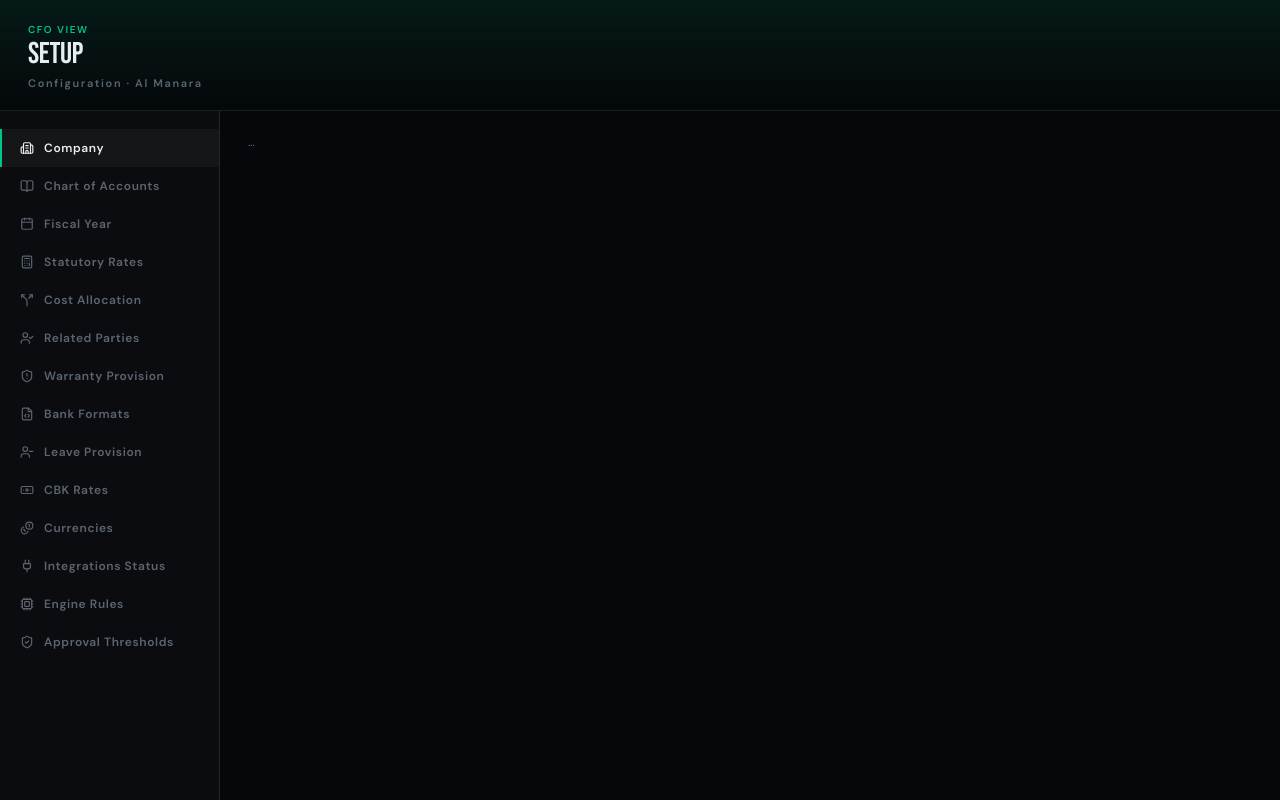
HASEEB-448 — SetupScreen onboarding polish › CoA templates: preview button opens modal with preview rows
Click the button "Chart of Accounts" at (110, 186), box [0,166,219,204]
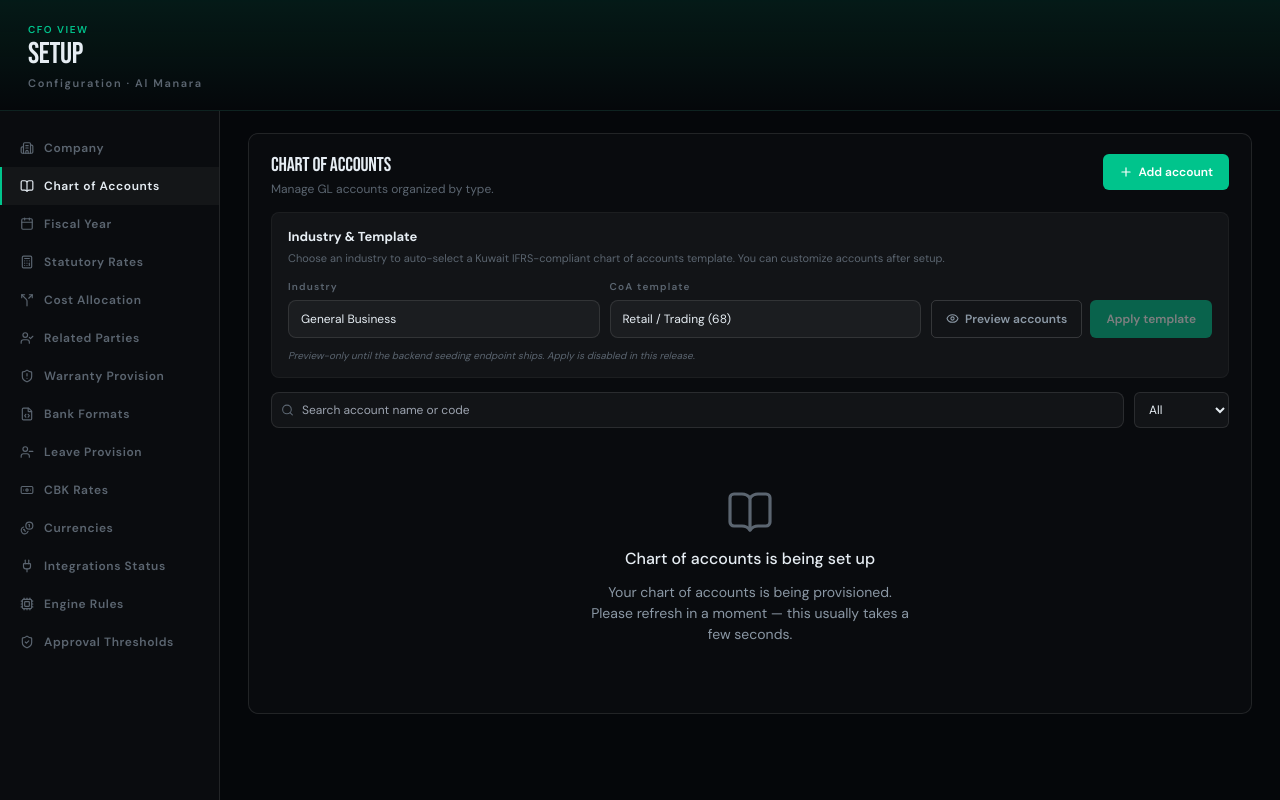
Click the button with test id "coa-preview-button" at (1007, 318), box [931,300,1082,338]
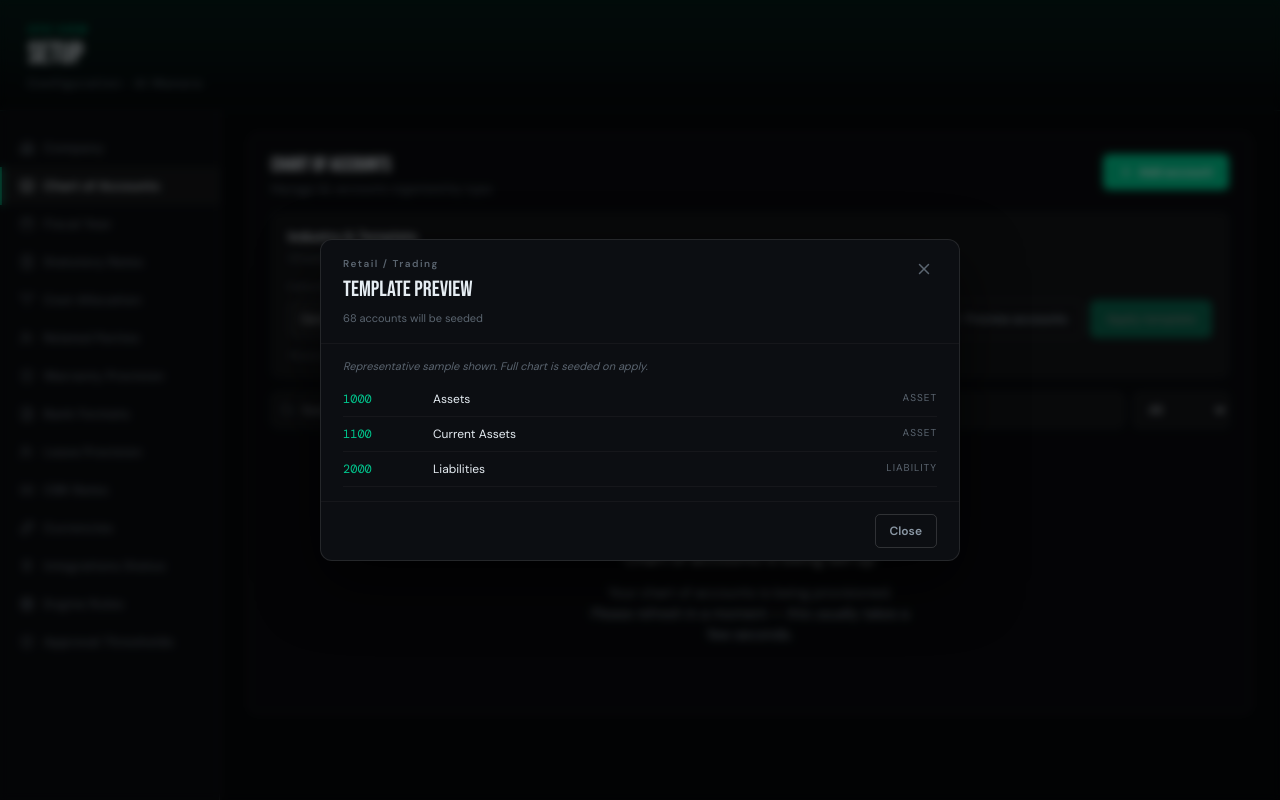
Expected: the text "1000" is shown, [343,391,372,407]
Expected: the text "2000" is shown, [343,461,372,477]
